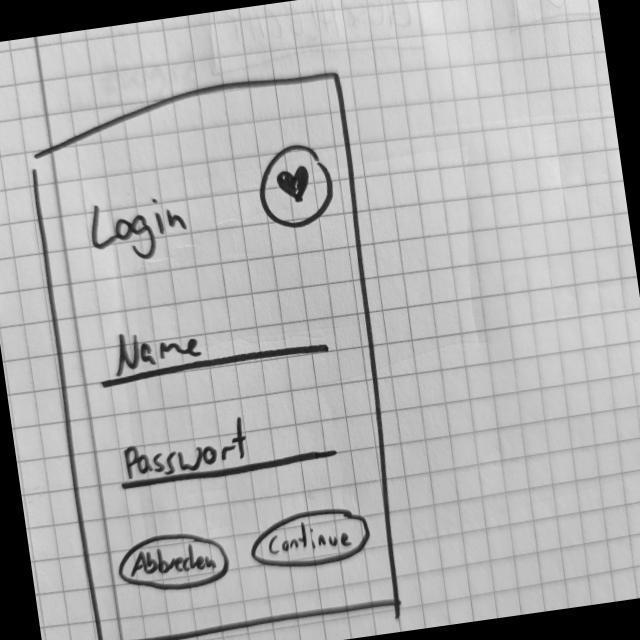button: (248, 502, 377, 579), (113, 526, 235, 601)
container: (17, 63, 418, 640)
icon-button: (253, 141, 342, 236)
input: (94, 303, 333, 394), (114, 399, 341, 494)
label: (82, 187, 197, 272)
